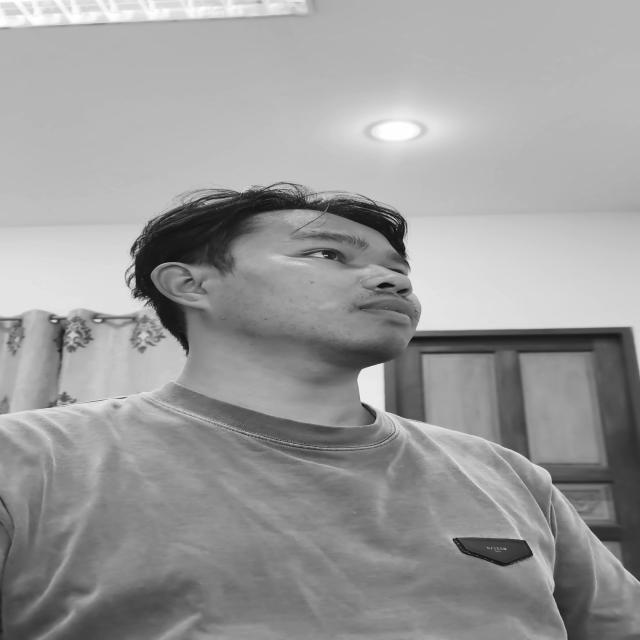ear: (151, 262, 212, 309)
